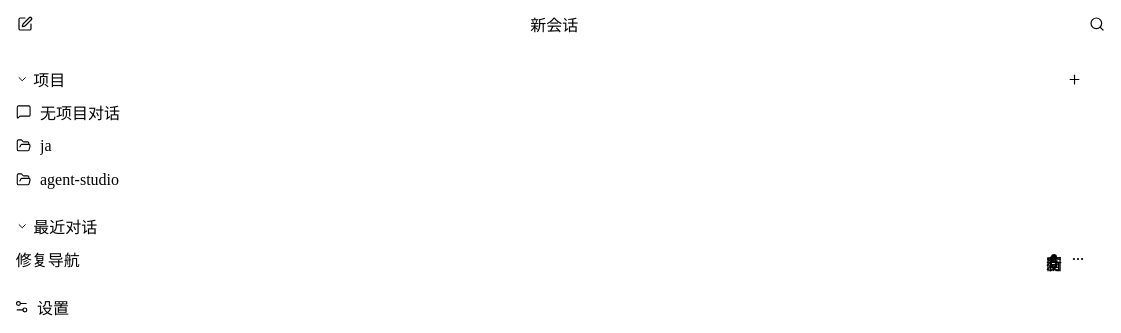
Test: NavigationSidebar › folds projects and recent conversations with explicit expanded semantics
Click the button with aria-label "折叠项目". click: (41, 79)
box: [16,65,65,93]
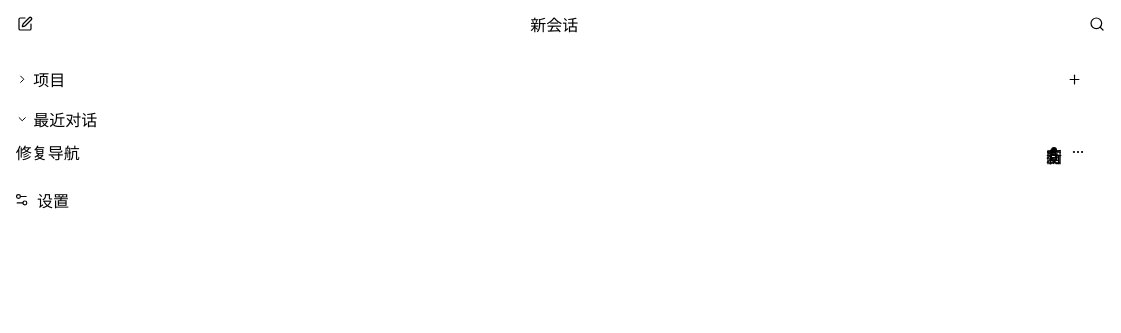
Result: the list "项目列表" is gone
Click the button with aria-label "折叠最近对话". click: (57, 119)
box: [16,105,97,133]
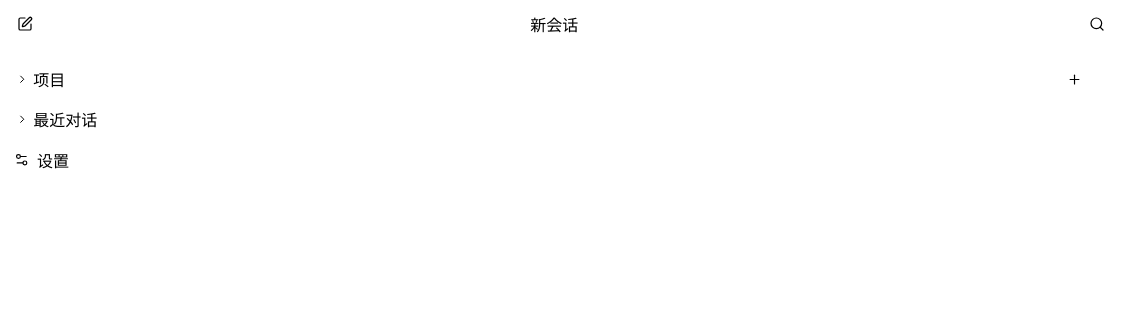
Result: the list "最近对话列表" is gone
